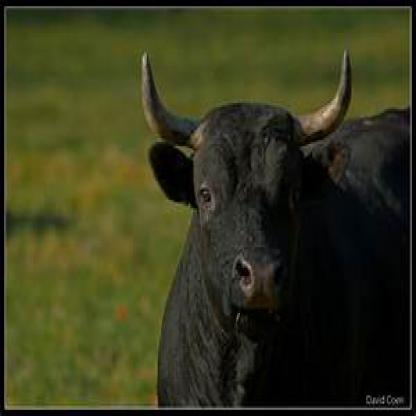cow: (130, 57, 415, 410)
